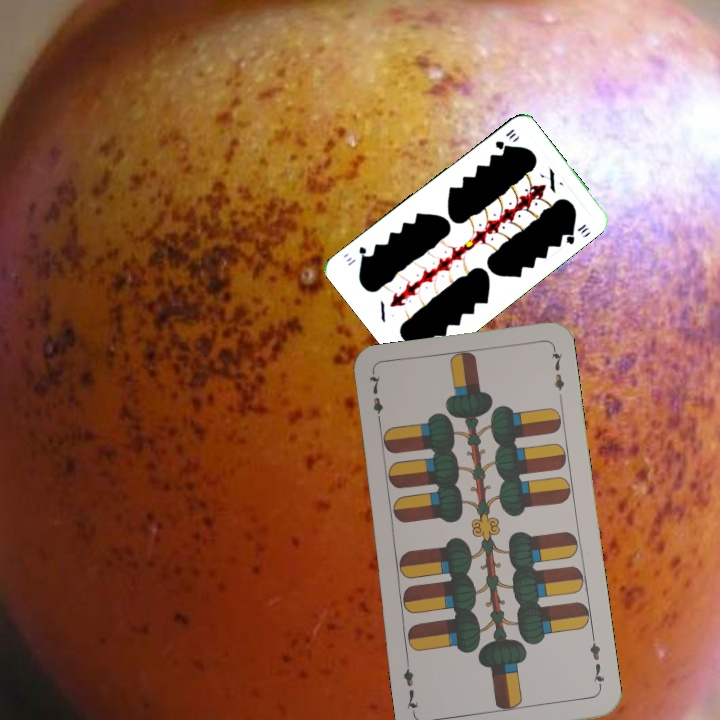E7: (586, 633, 607, 692), (366, 370, 386, 429)
G10: (491, 125, 518, 152)
